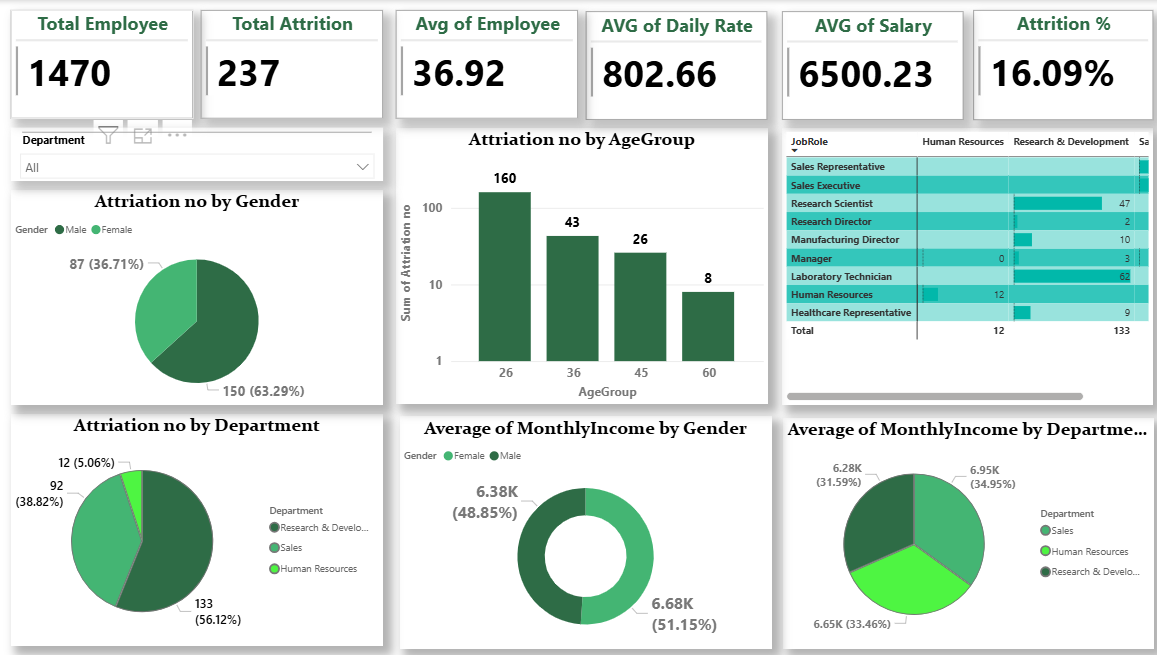

This screenshot's page, from the dashboard's own definition file:
{"tool":"powerbi","page":{"name":"HR Analystics","canvas":[1280,720],"ordinal":0},"visuals":[{"type":"multiRowCard","title":"Total Employee","fields":{"Values":["HR.EmpID"]},"box":[15.1,10.6,200.3,119.4],"z":0},{"type":"multiRowCard","title":"Attrition %","fields":{"Values":["HR.Att rate %"]},"box":[1071.7,11,197.6,120.8],"z":1000},{"type":"multiRowCard","title":"AVG of Daily Rate","fields":{"Values":["Avg(HR.DailyRate)"]},"box":[646.3,12,199,119.4],"z":2000},{"type":"multiRowCard","title":"Avg of Employee","fields":{"Values":["Avg(HR.Age)"]},"box":[437.7,11,200.3,119.4],"z":3000},{"type":"multiRowCard","title":"Total Attrition","fields":{"Values":["Sum(HR.Attriation no)"]},"box":[223.7,10.6,200.3,119.4],"z":4000},{"type":"multiRowCard","title":"AVG of Salary","fields":{"Values":["Avg(HR.MonthlyIncome)"]},"box":[861.8,12,199,119.4],"z":5000},{"type":"donutChart","title":"Attriation no by Gender","fields":{"Category":["HR.Gender"],"Y":["Sum(HR.Attriation no)"]},"box":[15.1,208.6,408.9,236],"z":6000},{"type":"donutChart","title":"Attriation no by Department","fields":{"Category":["HR.Department"],"Y":["Sum(HR.Attriation no)"]},"box":[15.1,454.2,408.9,255.2],"z":7000},{"type":"slicer","fields":{"Values":["HR.Department"]},"box":[15.1,140,408.9,58],"z":8000},{"type":"clusteredColumnChart","title":"Attriation no by AgeGroup","fields":{"Y":["Sum(HR.Attriation no)"],"Category":["HR.AgeGroup"]},"box":[438.4,140,408.9,303.3],"z":9000},{"type":"pivotTable","fields":{"Values":["Sum(HR.Attriation no)"],"Rows":["HR.JobRole","HR.Gender"],"Columns":["HR.Department"]},"box":[861.8,140,407.5,304.6],"z":10000},{"type":"donutChart","fields":{"Y":["Avg(HR.MonthlyIncome)"],"Category":["HR.Department"]},"box":[863.1,458.3,407.5,253.9],"z":11000},{"type":"donutChart","fields":{"Category":["HR.Gender"],"Y":["Avg(HR.MonthlyIncome)"]},"box":[441.9,456.9,408.9,255.2],"z":12000}]}

Visuals, with their boxes in screenshot pixels (x1, y1, x2, y2), scaled from the page's 1280x720 canvas onto the 1157x655 screenshot:
"Total Employee" multiRowCard: bbox=(14, 10, 195, 118)
"Attrition %" multiRowCard: bbox=(969, 10, 1147, 120)
"AVG of Daily Rate" multiRowCard: bbox=(584, 11, 764, 120)
"Avg of Employee" multiRowCard: bbox=(396, 10, 577, 119)
"Total Attrition" multiRowCard: bbox=(202, 10, 383, 118)
"AVG of Salary" multiRowCard: bbox=(779, 11, 959, 120)
"Attriation no by Gender" donutChart: bbox=(14, 190, 383, 404)
"Attriation no by Department" donutChart: bbox=(14, 413, 383, 645)
slicer - HR.Department: bbox=(14, 127, 383, 180)
"Attriation no by AgeGroup" clusteredColumnChart: bbox=(396, 127, 766, 403)
pivotTable - Sum(HR.Attriation no) x HR.JobRole: bbox=(779, 127, 1147, 404)
donutChart - Avg(HR.MonthlyIncome) x HR.Department: bbox=(780, 417, 1149, 648)
donutChart - HR.Gender x Avg(HR.MonthlyIncome): bbox=(399, 416, 769, 648)
